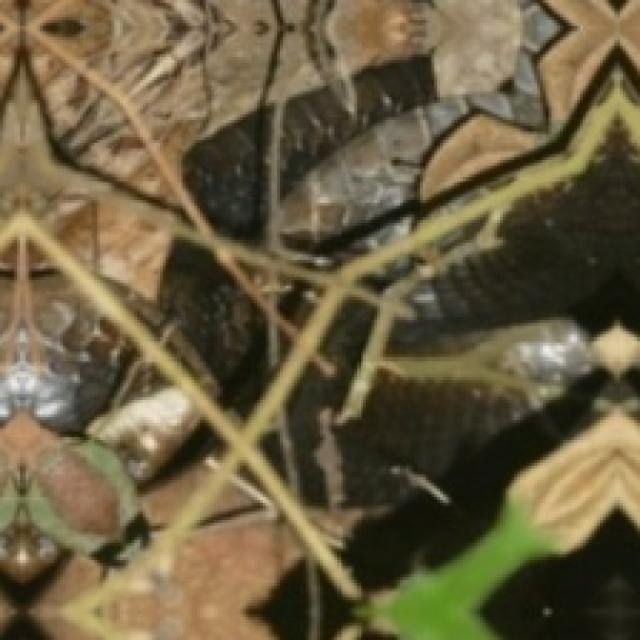king cobra: (280, 0, 570, 203), (389, 144, 640, 354), (289, 301, 525, 504), (0, 260, 199, 481), (115, 239, 272, 413), (289, 170, 425, 266), (181, 104, 269, 247)
